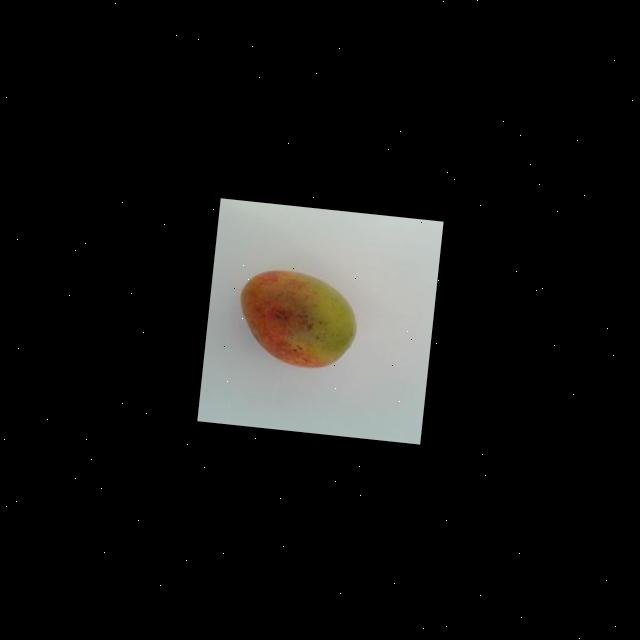Mango: (234, 264, 362, 372)
